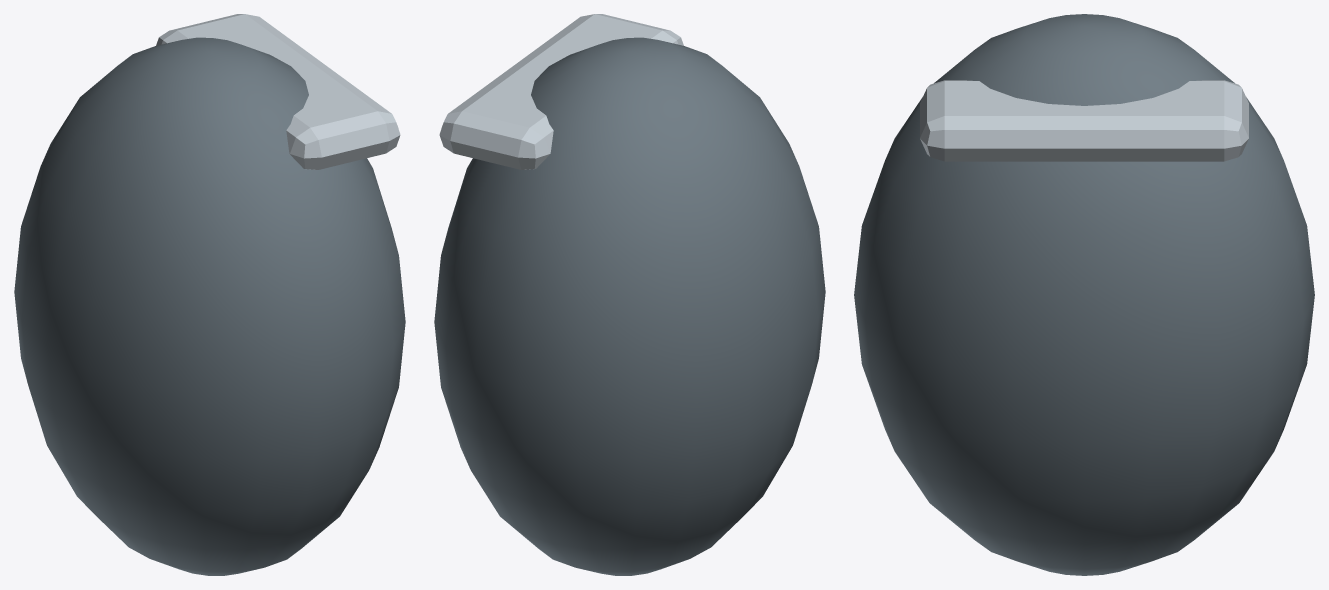
Rendered from Grenade.fbx.
3 views of the same model, side by side, from view 1: azimuth 30°, elevation 25°; view 2: azimuth 150°, elevation 25°; view 3: azimuth 270°, elevation 25° (orthographic). The views are drawn at different scales.
Parts seen in each view (by area): view 1: Body.030; view 2: Body.030; view 3: Body.030.
Part boxes in pixels (x1,y1,x2,y2): Body.030: (14,14,405,575); Body.030: (434,14,825,575); Body.030: (854,14,1314,575).
Size of the model in its own units: 0.12 by 0.18 by 0.14.
